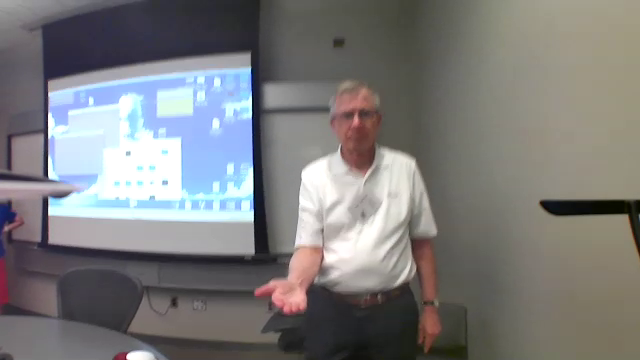land: (247, 272, 318, 319)
